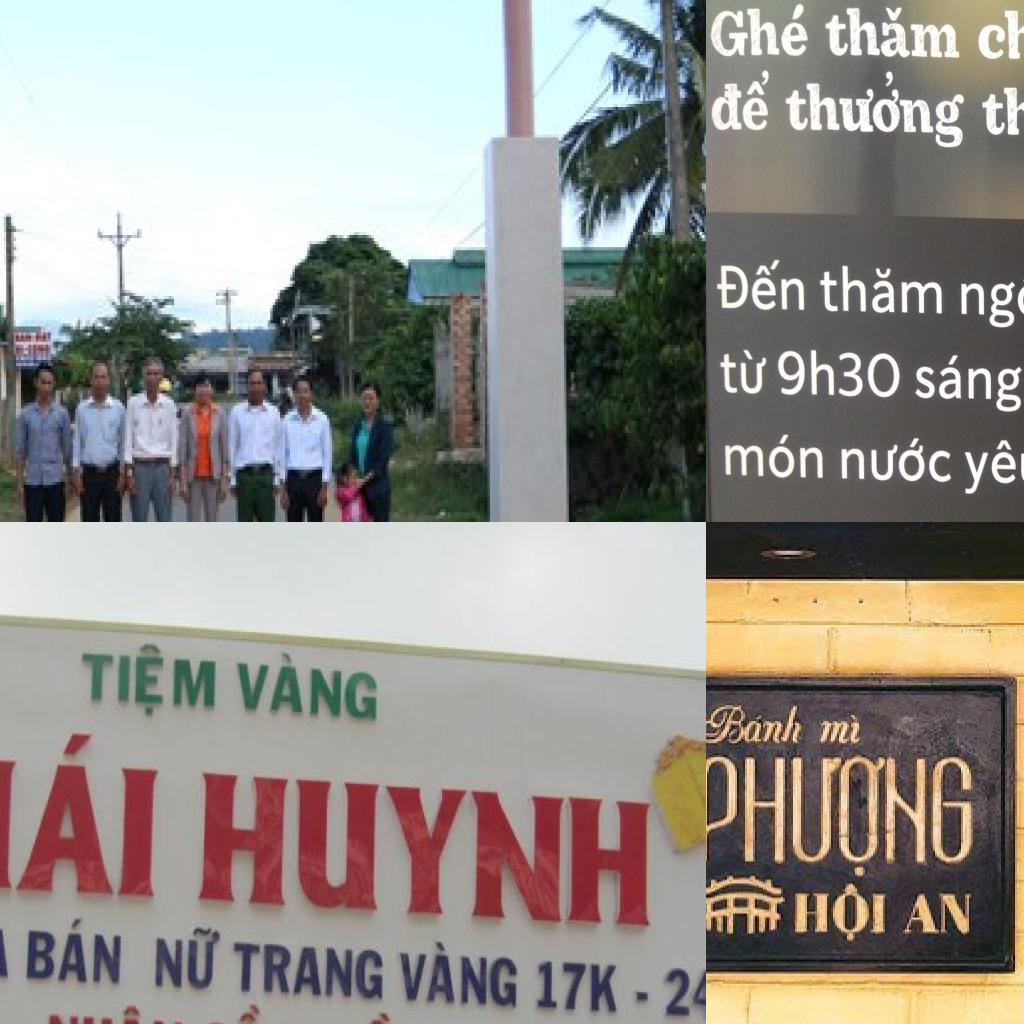text: (198, 768, 656, 932), (706, 753, 977, 879), (0, 712, 163, 903), (783, 65, 966, 150), (79, 637, 218, 722), (234, 646, 380, 722), (232, 939, 385, 1002), (397, 939, 519, 1009), (822, 4, 960, 58), (817, 262, 945, 318), (26, 915, 125, 987), (776, 346, 902, 399), (914, 354, 1022, 412), (793, 882, 889, 946), (709, 0, 808, 57), (839, 435, 952, 484), (715, 256, 806, 312), (723, 430, 824, 480), (536, 960, 618, 1018), (154, 922, 222, 990), (706, 703, 809, 747), (958, 268, 1024, 329), (710, 67, 770, 134), (961, 438, 1024, 497), (976, 2, 1024, 78), (46, 1000, 184, 1024), (978, 72, 1024, 141), (198, 999, 310, 1024), (716, 346, 768, 398), (665, 966, 706, 1020), (815, 713, 863, 747), (324, 1008, 393, 1024)
